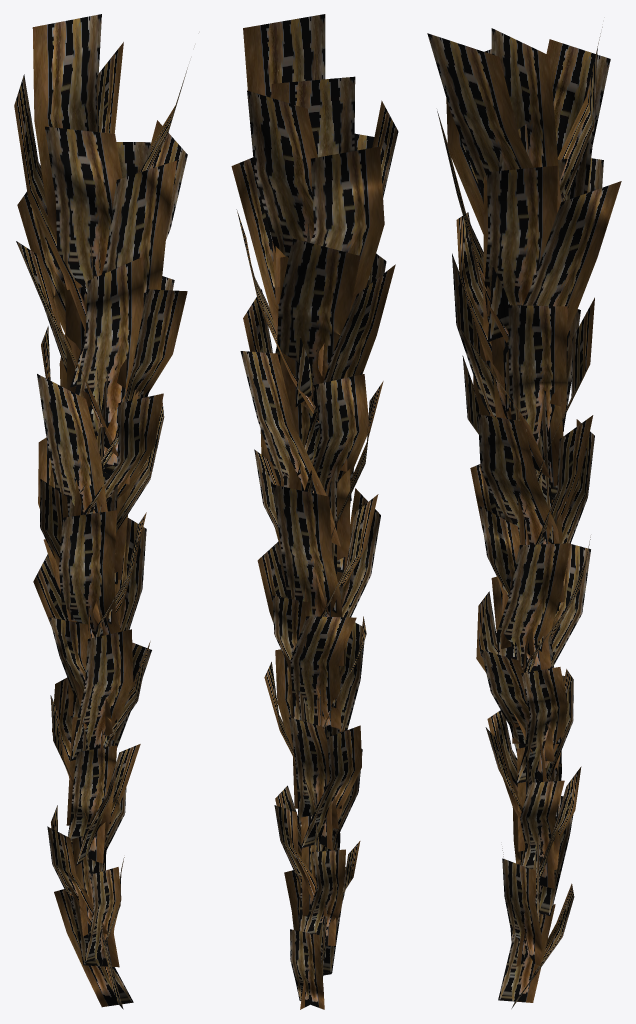
Rendered from SeaWeed08-transformed.glb.
3 renders of one model, left to right at view 1: azimuth 30°, elevation 25°; view 2: azimuth 150°, elevation 25°; view 3: azimuth 270°, elevation 25°, orthographic. The views are drawn at different scales.
Visible parts, largest first — view 1: SeaWeed08; view 2: SeaWeed08; view 3: SeaWeed08.
Boxes of the visible parts, left/top/right/bottom form: SeaWeed08: left=14, top=14, right=187, bottom=1009; SeaWeed08: left=231, top=14, right=398, bottom=1009; SeaWeed08: left=427, top=27, right=621, bottom=1008.
Size of the model in its own units: 0.182 by 1.03 by 0.1842.
1 material, 1 textured.
